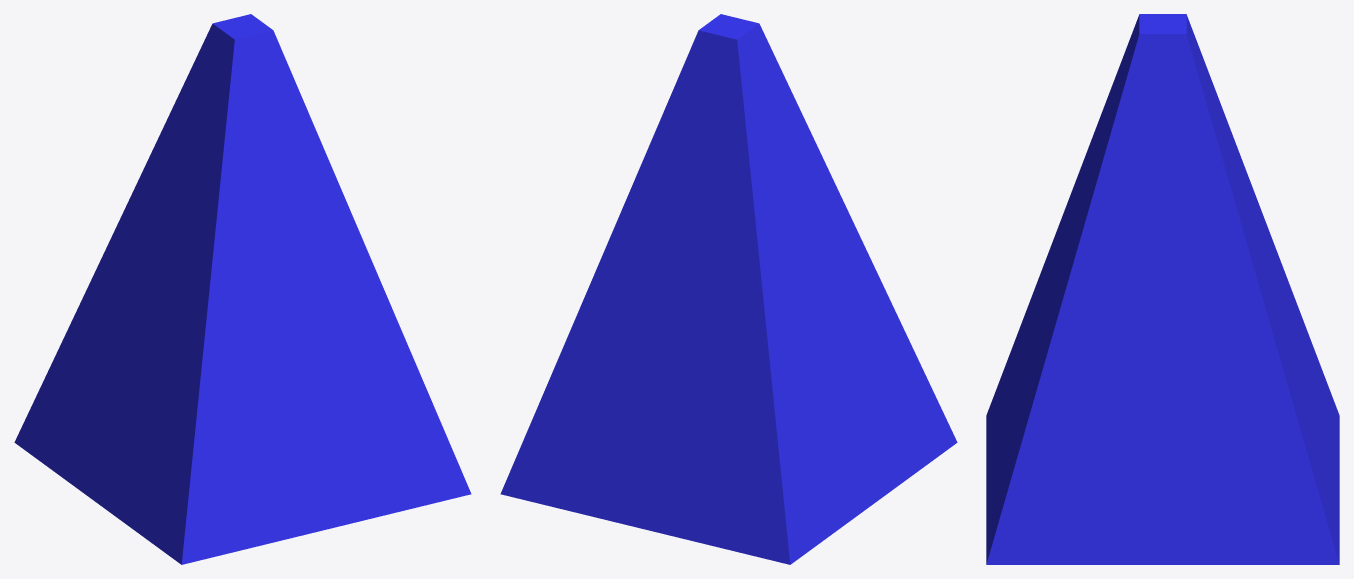
Rendered from prop_cone_collider.FBX.
The picture shows the model from 3 angles, left to right: view 1: azimuth 30°, elevation 25°; view 2: azimuth 150°, elevation 25°; view 3: azimuth 270°, elevation 25°; orthographic projection. The views are drawn at different scales.
Parts seen in each view (by area): view 1: prop_cone_collider; view 2: prop_cone_collider; view 3: prop_cone_collider.
Part boxes in pixels (x1=…): prop_cone_collider: x1=14, y1=14, x2=471, y2=564; prop_cone_collider: x1=500, y1=14, x2=957, y2=564; prop_cone_collider: x1=986, y1=14, x2=1339, y2=564.
Bounding box in the file's own units: 27.05 × 39.37 × 27.03.
